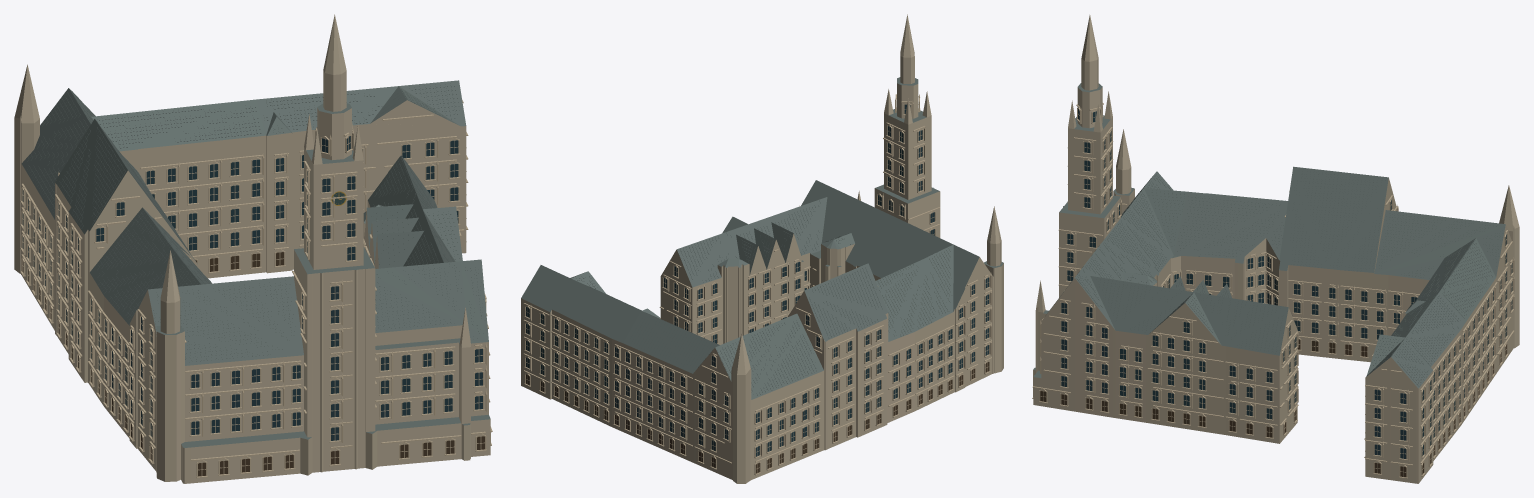
Rendered from muenchner-rathaus-100m.building-facade.glb.
The picture shows the model from 3 angles, left to right: view 1: azimuth 30°, elevation 25°; view 2: azimuth 150°, elevation 25°; view 3: azimuth 270°, elevation 25°; orthographic projection. The views are drawn at different scales.
Parts seen in each view (by area): view 1: primary_DEBY_LOD2_4957695, Individual roof tiles, Stone frames, mullions and cornices, Recessed window panes, Ground-floor doors and shop openings, Gothic hood mouldings and pinnacles; view 2: primary_DEBY_LOD2_4957695, Stone frames, mullions and cornices, Individual roof tiles, Recessed window panes, Ground-floor doors and shop openings, Gothic hood mouldings and pinnacles; view 3: primary_DEBY_LOD2_4957695, Individual roof tiles, Stone frames, mullions and cornices, Recessed window panes, Ground-floor doors and shop openings, Gothic hood mouldings and pinnacles.
Boxes of the visible parts, x1=… form: primary_DEBY_LOD2_4957695: x1=14, y1=14, x2=490, y2=483; Individual roof tiles: x1=25, y1=82, x2=486, y2=362; Stone frames, mullions and cornices: x1=20, y1=100, x2=492, y2=478; Recessed window panes: x1=22, y1=136, x2=482, y2=440; Ground-floor doors and shop openings: x1=22, y1=252, x2=484, y2=476; Gothic hood mouldings and pinnacles: x1=23, y1=127, x2=487, y2=425; primary_DEBY_LOD2_4957695: x1=521, y1=14, x2=1003, y2=483; Stone frames, mullions and cornices: x1=523, y1=94, x2=992, y2=475; Individual roof tiles: x1=523, y1=182, x2=976, y2=395; Recessed window panes: x1=526, y1=104, x2=988, y2=456; Ground-floor doors and shop openings: x1=526, y1=362, x2=988, y2=473; Gothic hood mouldings and pinnacles: x1=530, y1=94, x2=991, y2=444; primary_DEBY_LOD2_4957695: x1=1033, y1=15, x2=1519, y2=483; Individual roof tiles: x1=1045, y1=167, x2=1504, y2=386; Stone frames, mullions and cornices: x1=1032, y1=103, x2=1514, y2=478; Recessed window panes: x1=1061, y1=109, x2=1512, y2=458; Ground-floor doors and shop openings: x1=1040, y1=339, x2=1506, y2=477; Gothic hood mouldings and pinnacles: x1=1040, y1=106, x2=1514, y2=448.
Size of the model in its own units: 90.2 by 79.32 by 101.
